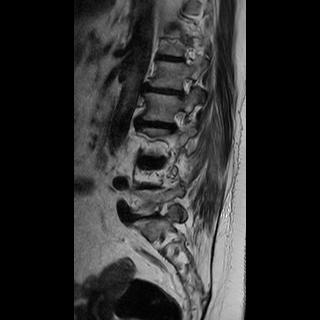LFS0: (173, 72, 197, 103)
